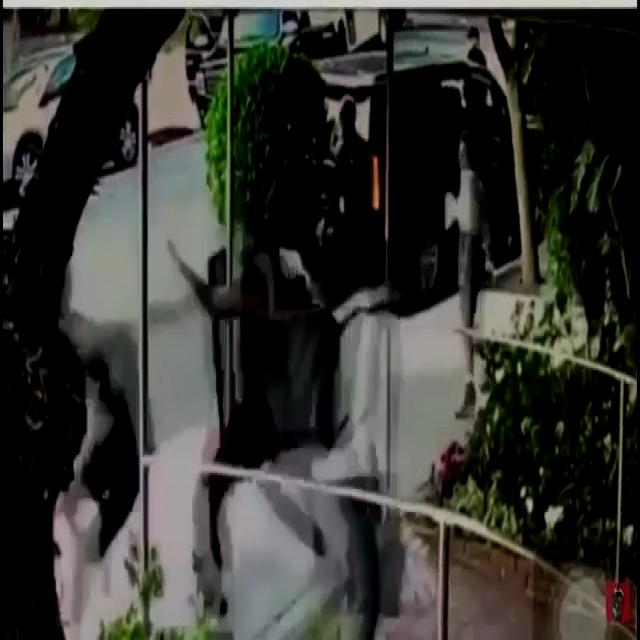fight: (194, 226, 405, 577)
